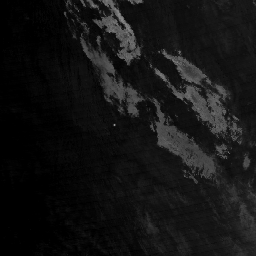Target: (112, 123, 116, 127)
